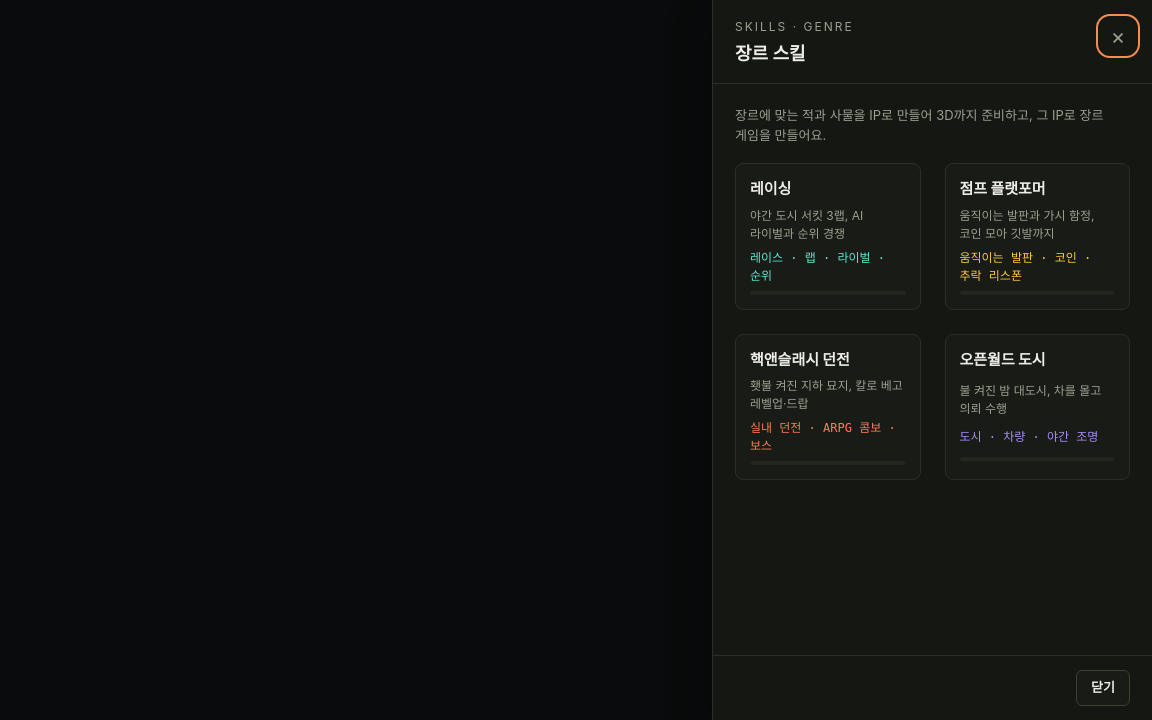
Test case: R20-38 장르 스킬 says what its button starts and asks before it starts › counts an IP that only needs its 3D again as that: no picture, ten minutes
Click the button "점프 플랫포머 움직이는 발판과 가시 함정, 코인 모아 깃발까지 움직이는 발판 · 코인 · 추락 리스폰" at {"x": 1037, "y": 236}, box [944,163,1130,310]
(page scrolled)
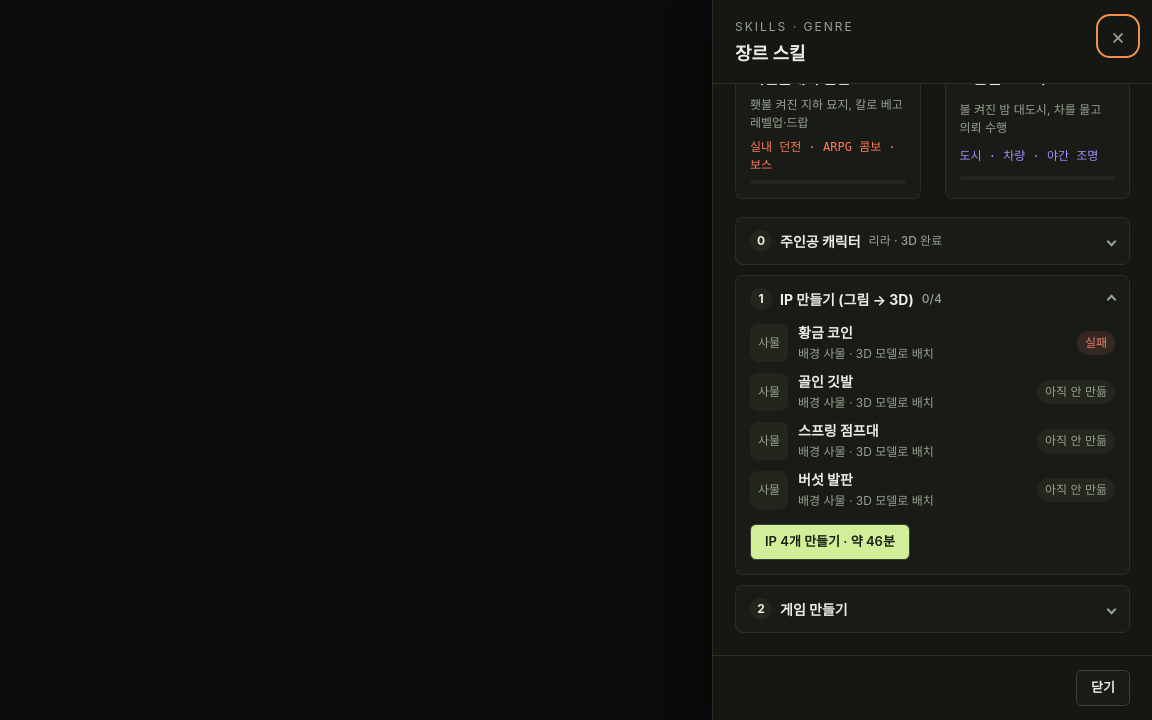
Expected: the button "IP 4개 만들기 · 약 46분" is shown
Click the button "IP 4개 만들기 · 약 46분" at {"x": 830, "y": 542}, box [750,524,910,560]
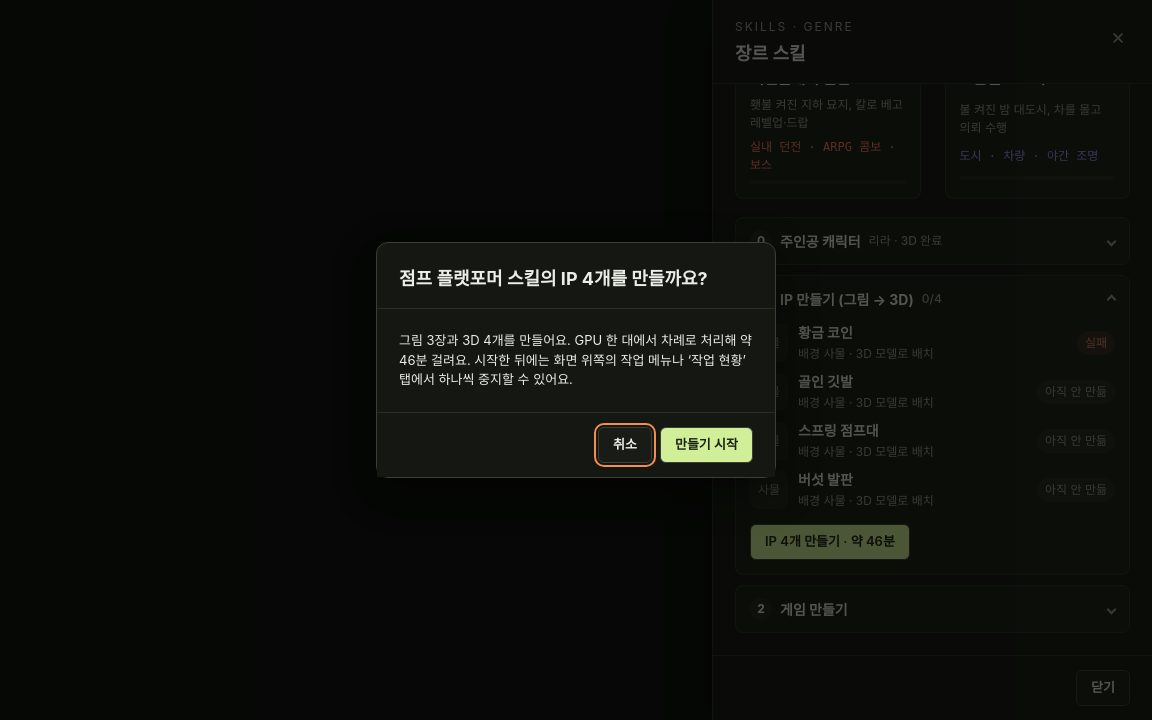
Expected: the text with class "dialog-lead" shows "그림 3장과 3D 4개를 만들어요.", [399,332,752,387]
